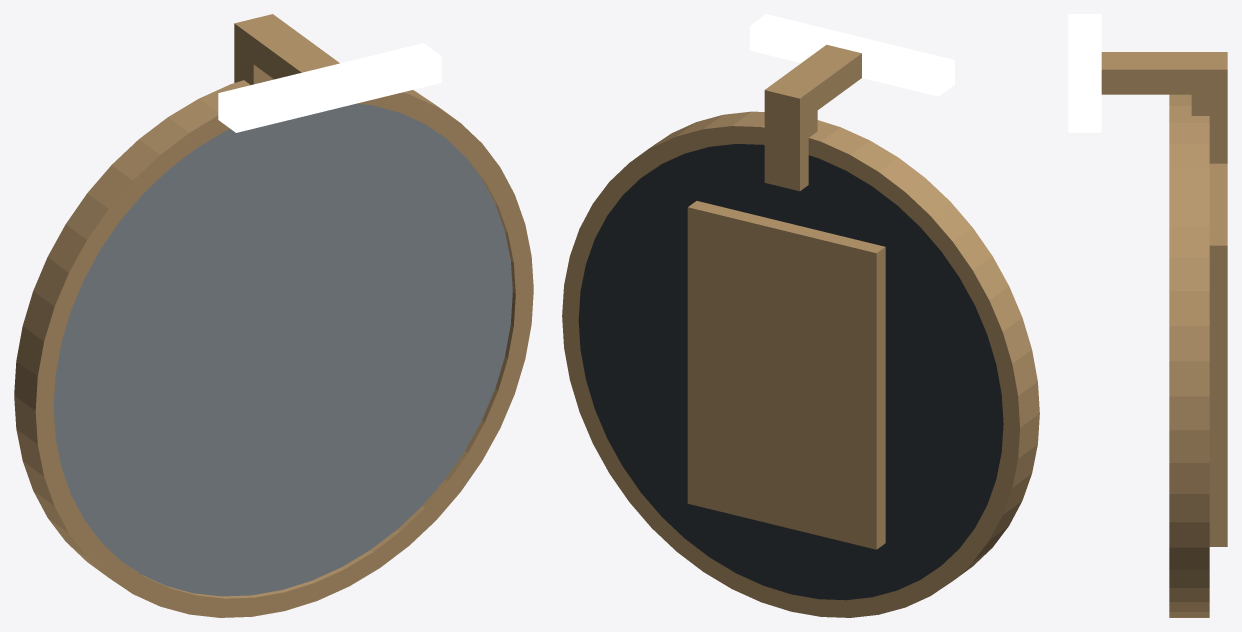
File: round.glb
3 renders of one model, left to right at view 1: azimuth 30°, elevation 25°; view 2: azimuth 150°, elevation 25°; view 3: azimuth 270°, elevation 25°, orthographic. The views are drawn at different scales.
Parts seen in each view (by area): view 1: makeup-face-center, makeup-frame-center, makeup-lamp, makeup-lamp-arm, makeup-lamp-riser; view 2: makeup-back-center, makeup-wall-mount, makeup-frame-center, makeup-lamp, makeup-lamp-arm, makeup-lamp-riser; view 3: makeup-frame-center, makeup-wall-mount, makeup-lamp-arm, makeup-lamp, makeup-lamp-riser.
Part boxes in pixels (box(x1,y1,x2,y2)): makeup-face-center: box(53, 103, 512, 596); makeup-frame-center: box(14, 80, 533, 617); makeup-lamp: box(218, 43, 441, 132); makeup-lamp-arm: box(234, 14, 339, 79); makeup-lamp-riser: box(234, 50, 273, 84); makeup-back-center: box(578, 144, 1003, 600); makeup-wall-mount: box(687, 201, 885, 549); makeup-frame-center: box(562, 111, 1039, 617); makeup-lamp: box(750, 14, 954, 96); makeup-lamp-arm: box(764, 44, 861, 123); makeup-lamp-riser: box(764, 111, 817, 191); makeup-frame-center: box(1169, 94, 1209, 617); makeup-wall-mount: box(1209, 163, 1227, 546); makeup-lamp-arm: box(1101, 52, 1227, 94); makeup-lamp: box(1068, 14, 1101, 132); makeup-lamp-riser: box(1191, 94, 1227, 163).
Size of the model in its own units: 0.3881 by 0.424 by 0.115.
